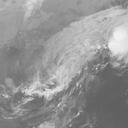cyclone: (28, 34, 96, 101)
